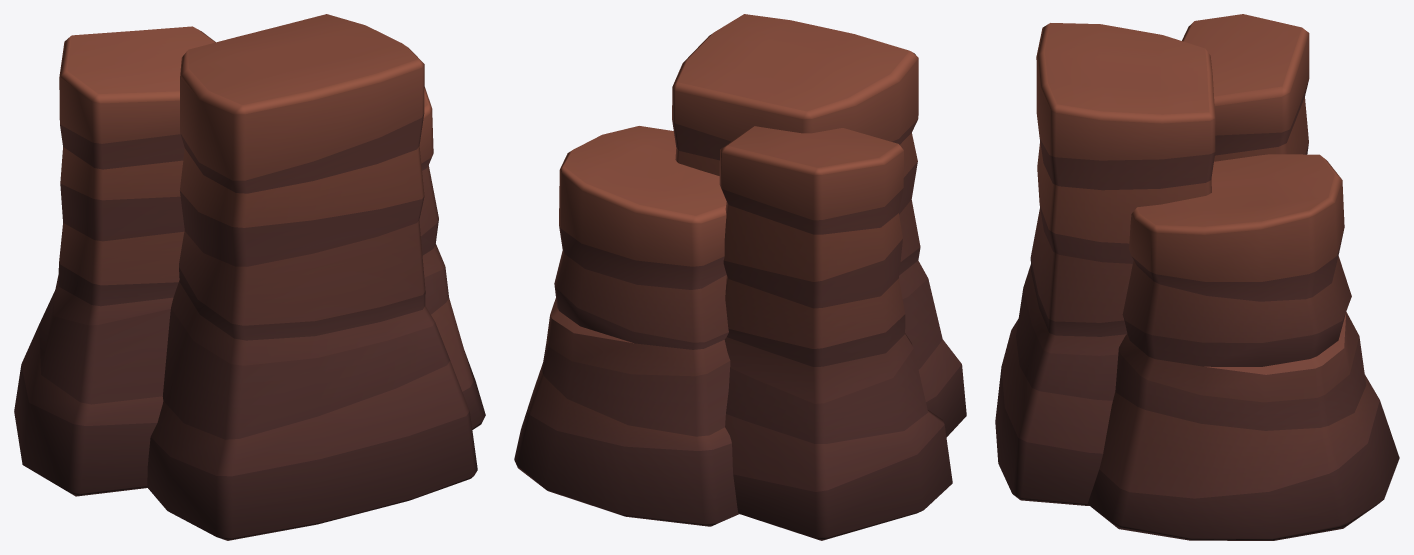
The model's file is rock_formation_01.fbx.
The picture shows the model from 3 angles, left to right: view 1: azimuth 30°, elevation 25°; view 2: azimuth 150°, elevation 25°; view 3: azimuth 270°, elevation 25°; orthographic projection. The views are drawn at different scales.
Parts seen in each view (by area): view 1: rock_formation_01; view 2: rock_formation_01; view 3: rock_formation_01.
Part boxes in pixels (x1,y1,x2,y2): rock_formation_01: [14, 14, 485, 540]; rock_formation_01: [514, 14, 966, 540]; rock_formation_01: [995, 14, 1399, 540].
Bounding box in the file's own units: 874 × 807 × 774.
